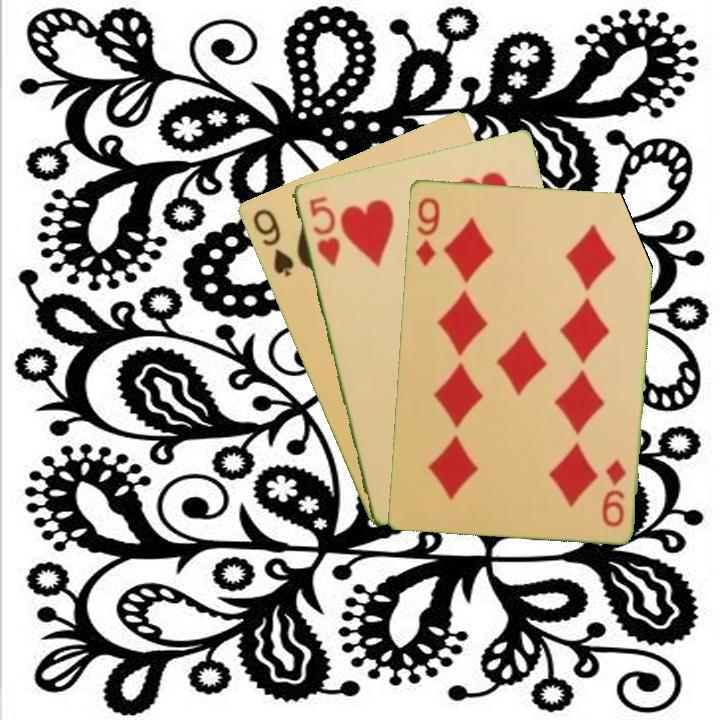5h: (304, 192, 343, 269)
9d: (412, 193, 443, 268), (598, 455, 629, 530)
9s: (248, 205, 296, 280)
